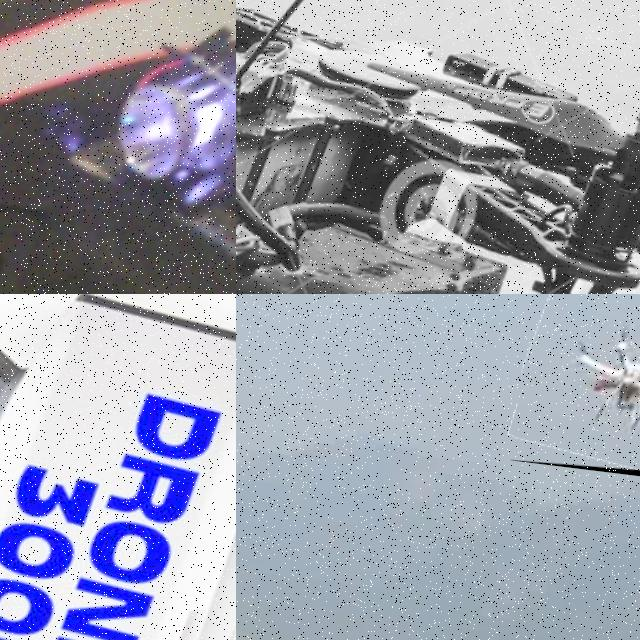drone: (236, 0, 640, 294), (0, 294, 236, 640), (0, 0, 236, 294), (510, 294, 640, 484)
